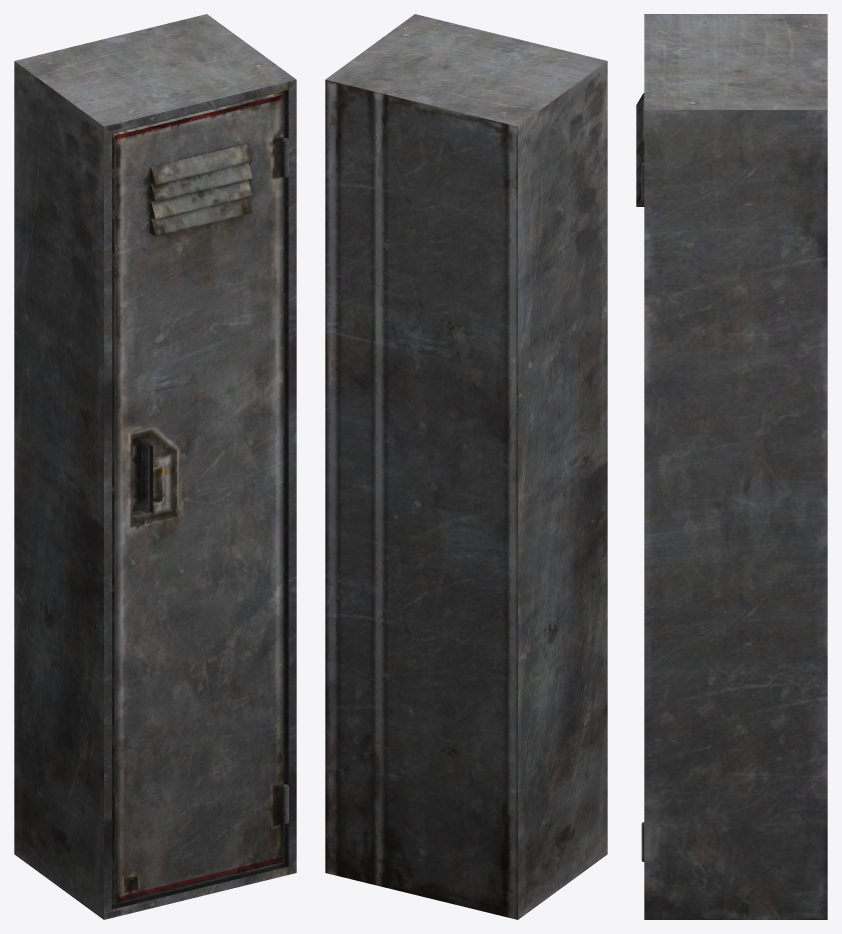
The model's file is locker_cabin.dae.
3 views of the same model, side by side, from view 1: azimuth 30°, elevation 25°; view 2: azimuth 150°, elevation 25°; view 3: azimuth 270°, elevation 25° (orthographic). The views are drawn at different scales.
Visible parts, largest first — view 1: Mesh__2_, Mesh; view 2: Mesh; view 3: Mesh, Mesh__2_.
Boxes of the visible parts, left/top/right/bottom form: Mesh__2_: left=112, top=92, right=288, bottom=903; Mesh: left=14, top=14, right=296, bottom=919; Mesh: left=325, top=14, right=607, bottom=919; Mesh: left=644, top=14, right=827, bottom=919; Mesh__2_: left=636, top=93, right=644, bottom=861.
Size of the model in its own units: 0.5682 by 2.24 by 0.4778.
